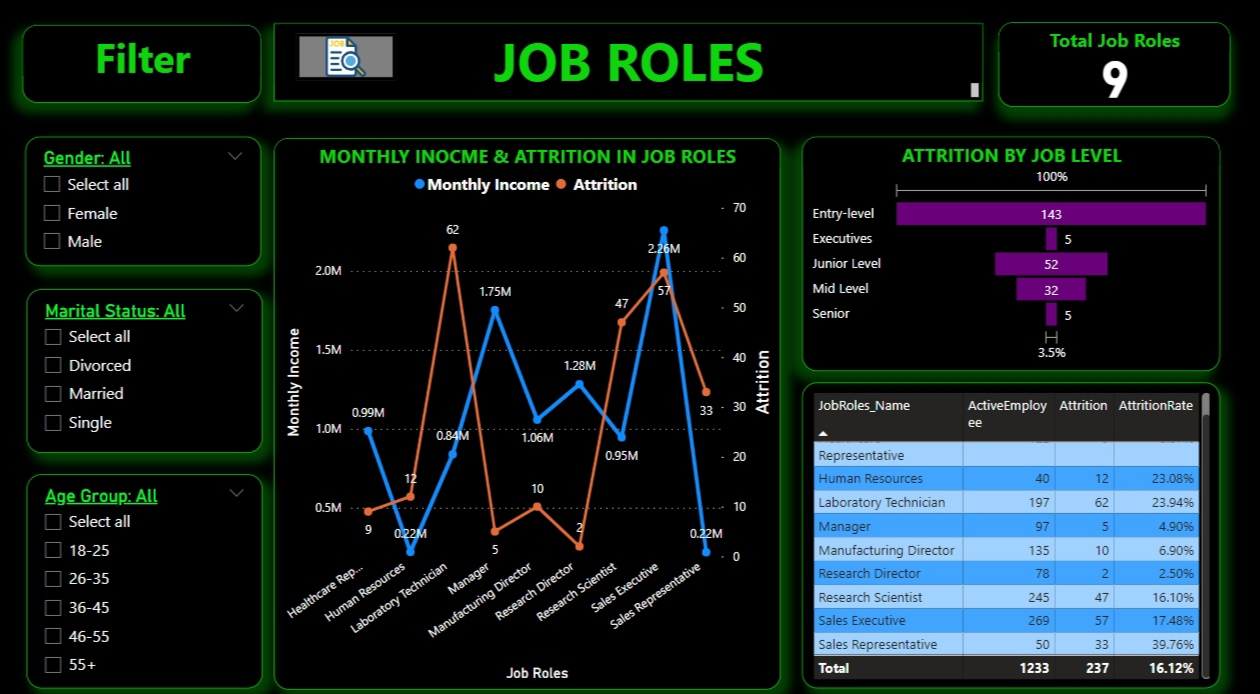

The page's visual inventory and layout, read from the dashboard file:
{"tool":"powerbi","page":{"name":"Page 3","canvas":[1280,720],"ordinal":2},"visuals":[{"type":"textbox","title":"JOB ROLES ","box":[318.2,21.4,717.8,78.5],"z":0},{"type":"tableEx","fields":{"Values":["public employee.jobrole_id","public jobroles.jobroles_name","public employee.ActiveEmployee","Sum(public employee.AttritionColumn)"]},"box":[419.4,411.5,424.1,308.3],"z":1000},{"type":"columnChart","fields":{"Y":["Sum(public employee.AttritionColumn)"],"Category":["public employee.joblevel"]},"box":[46.9,197.2,300.4,173.7],"z":2000},{"type":"lineClusteredColumnComboChart","fields":{"Category":["public jobroles.jobroles_name"],"Y":["Sum(public employee.monthlyincome)"],"Y2":["Sum(public employee.AttritionColumn)"]},"box":[377.1,128.3,546.1,261.3],"z":3000}]}

Visuals, with their boxes in screenshot pixels (x1, y1, x2, y2), scaled from the page's 1280x720 canvas onto the 1260x694 screenshot:
"JOB ROLES " textbox: 313 21 1020 96
tableEx - public employee.jobrole_id x public jobroles.jobroles_name: 413 397 830 693
columnChart - Sum(public employee.AttritionColumn) x public employee.joblevel: 46 190 342 358
lineClusteredColumnComboChart - public jobroles.jobroles_name x Sum(public employee.monthlyincome): 371 124 909 376
